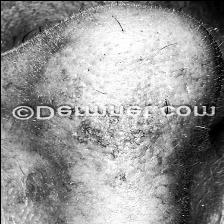Potentially Malignant Skin Tumors: (14, 164, 68, 202)
